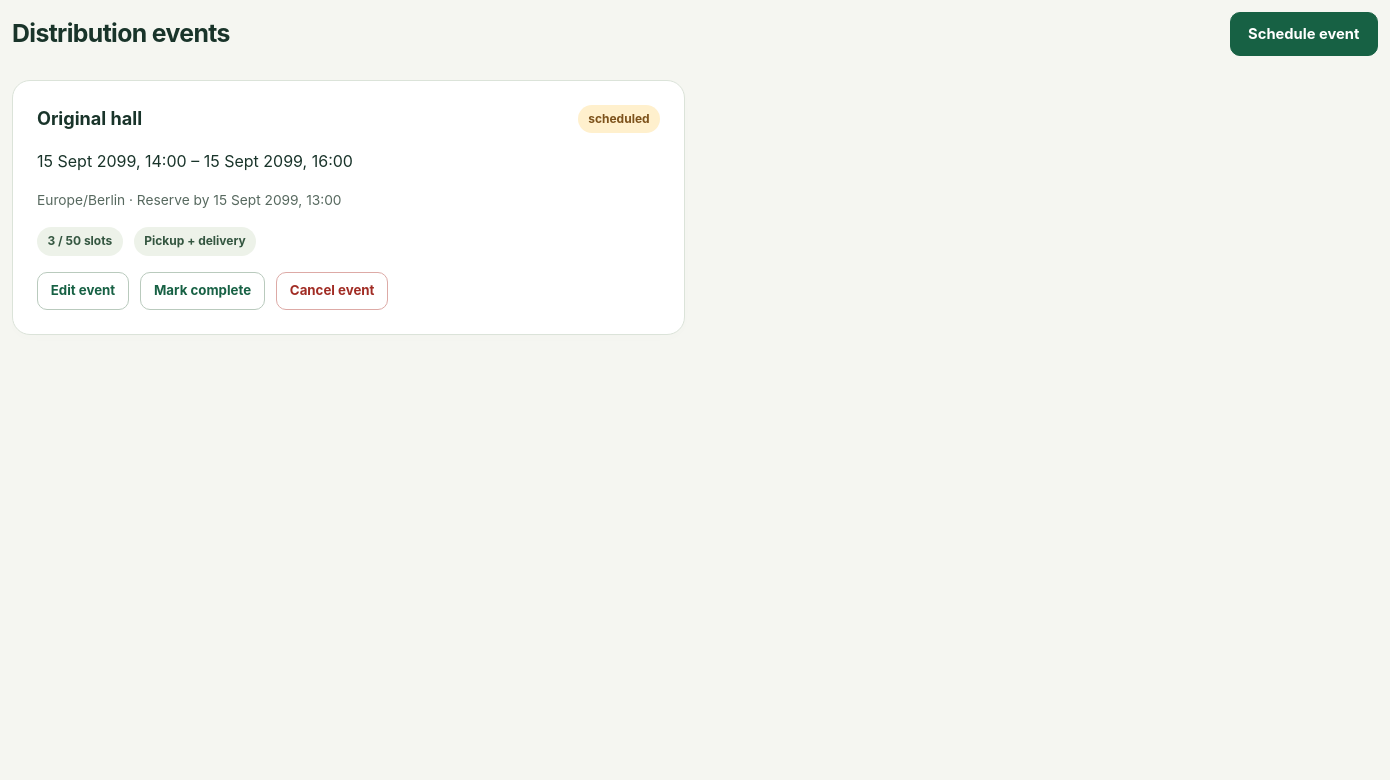
Test: editing an event with reservations › does not write when an edit is saved without changes, including second-precision schedule timestamps
Click the button "Edit event" at x=83, y=290, box [37,272,129,310]
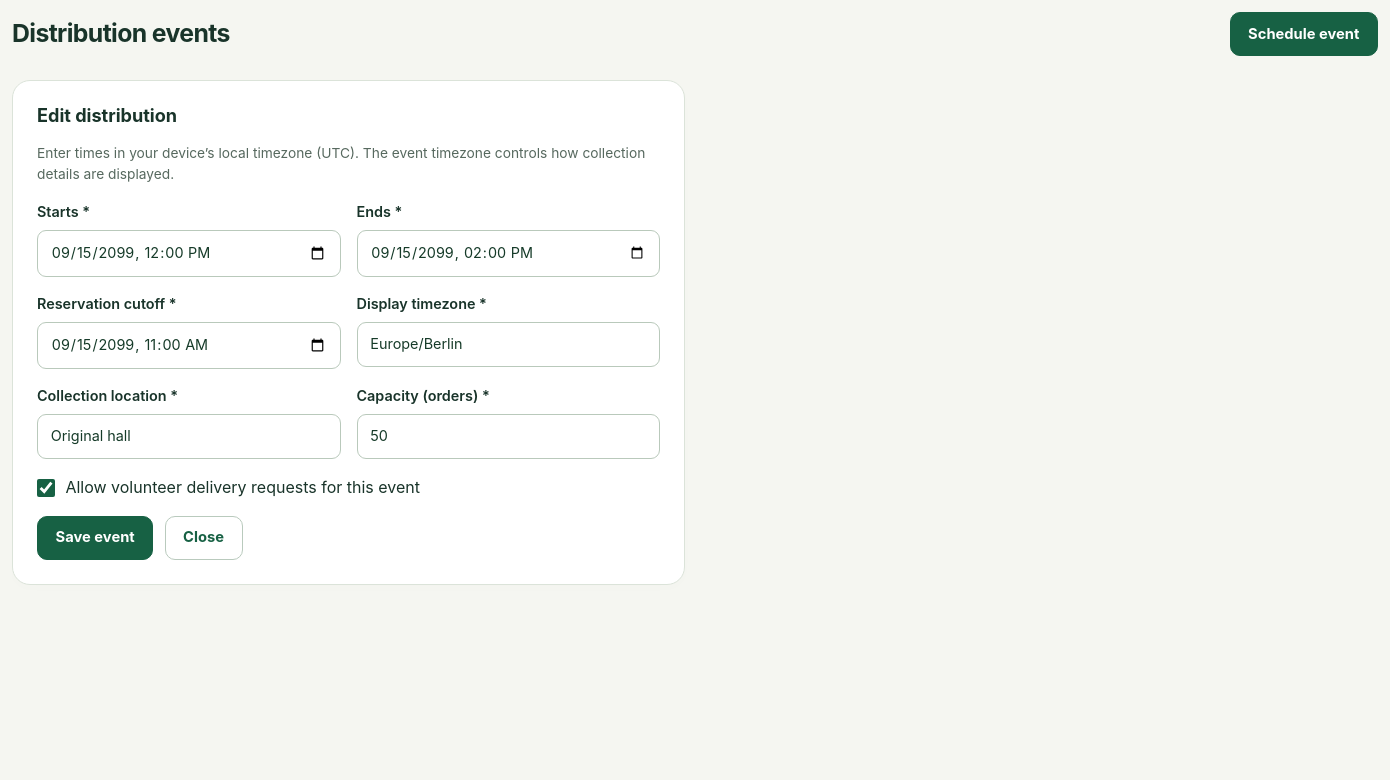
Click the button "Save event" at x=95, y=538, box [37,516,153,560]
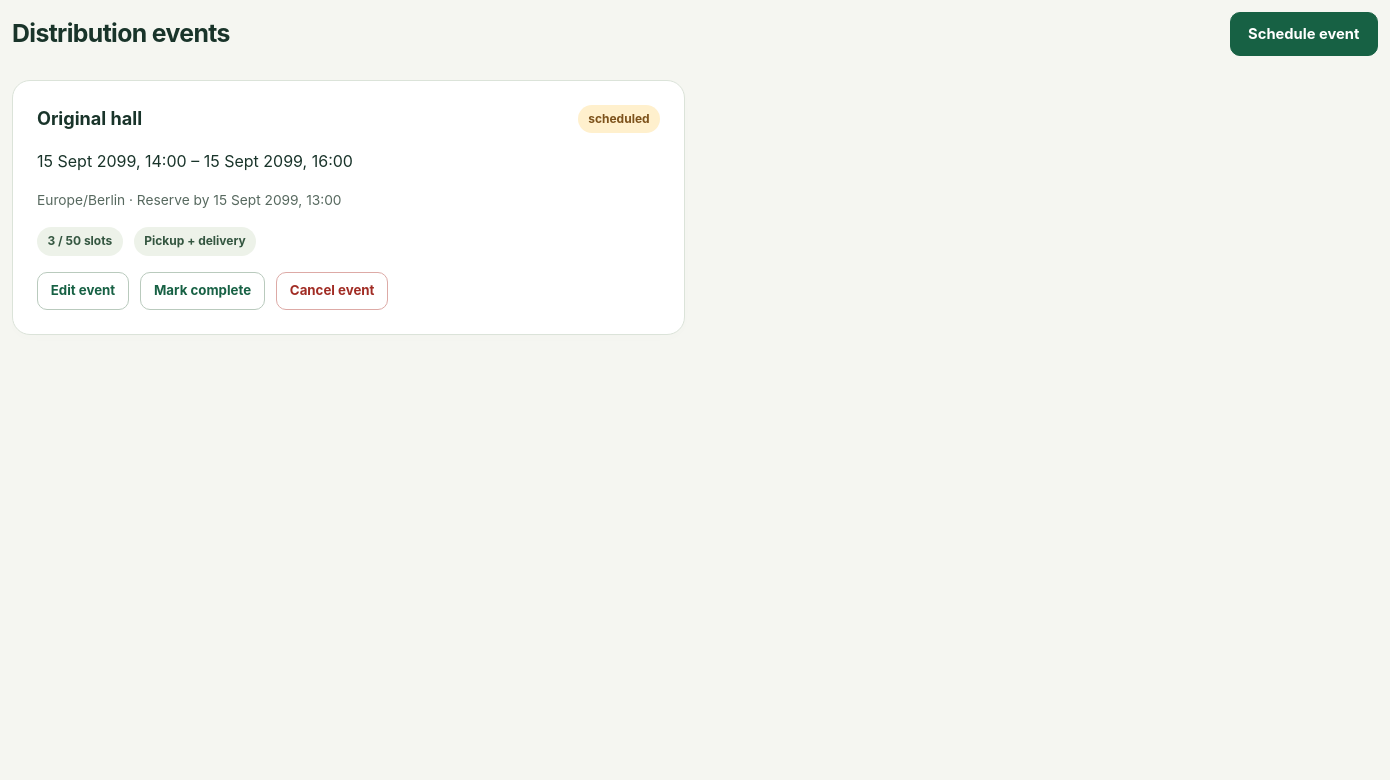
Result: the heading "Original hall" is shown at [37,108,142,130]
